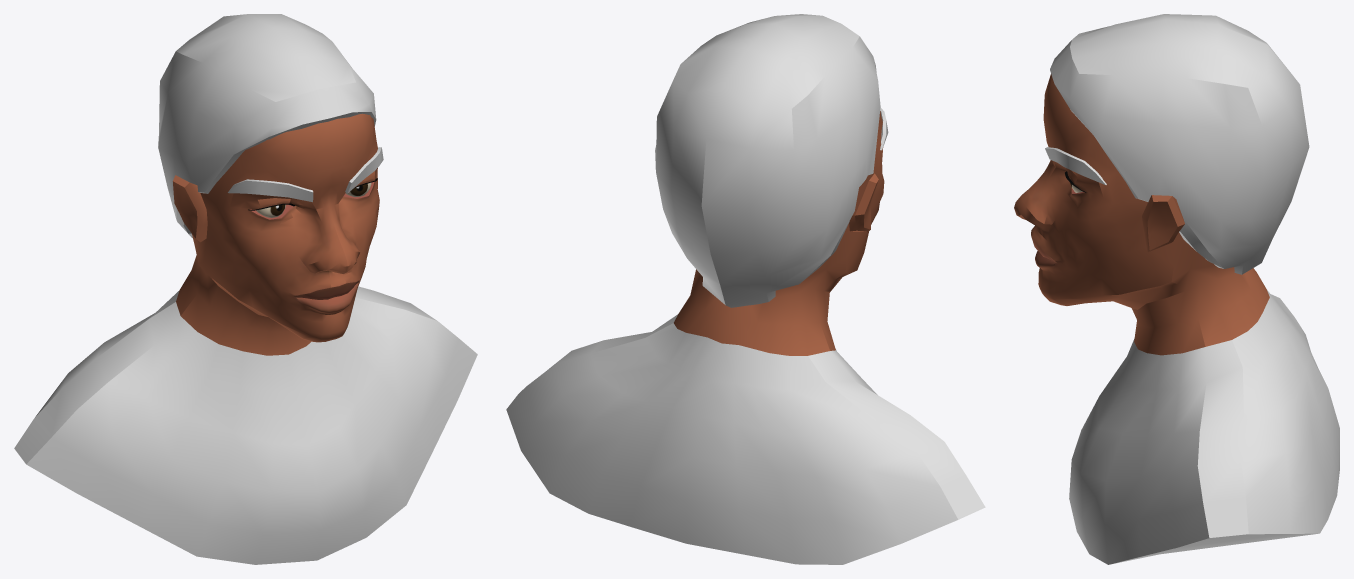
File: Male_Avatar_2_New.fbx
The picture shows the model from 3 angles, left to right: view 1: azimuth 30°, elevation 25°; view 2: azimuth 150°, elevation 25°; view 3: azimuth 270°, elevation 25°; orthographic projection. The views are drawn at different scales.
Parts seen in each view (by area): view 1: Shirt.001, Male Head.001, Hair.001; view 2: Shirt.001, Hair.001, Male Head.001; view 3: Shirt.001, Hair.001, Male Head.001.
Part boxes in pixels (x1,y1,x2,y2): Shirt.001: [14, 286, 477, 564]; Male Head.001: [172, 113, 379, 355]; Hair.001: [158, 14, 383, 238]; Shirt.001: [506, 314, 985, 564]; Hair.001: [655, 14, 888, 307]; Male Head.001: [674, 111, 884, 355]; Shirt.001: [1069, 290, 1339, 564]; Hair.001: [1045, 14, 1309, 274]; Male Head.001: [1014, 74, 1269, 355].
Bounding box in the file's own units: 46.19 × 48.95 × 28.24.
Materials: 1 (1 with a texture image).
